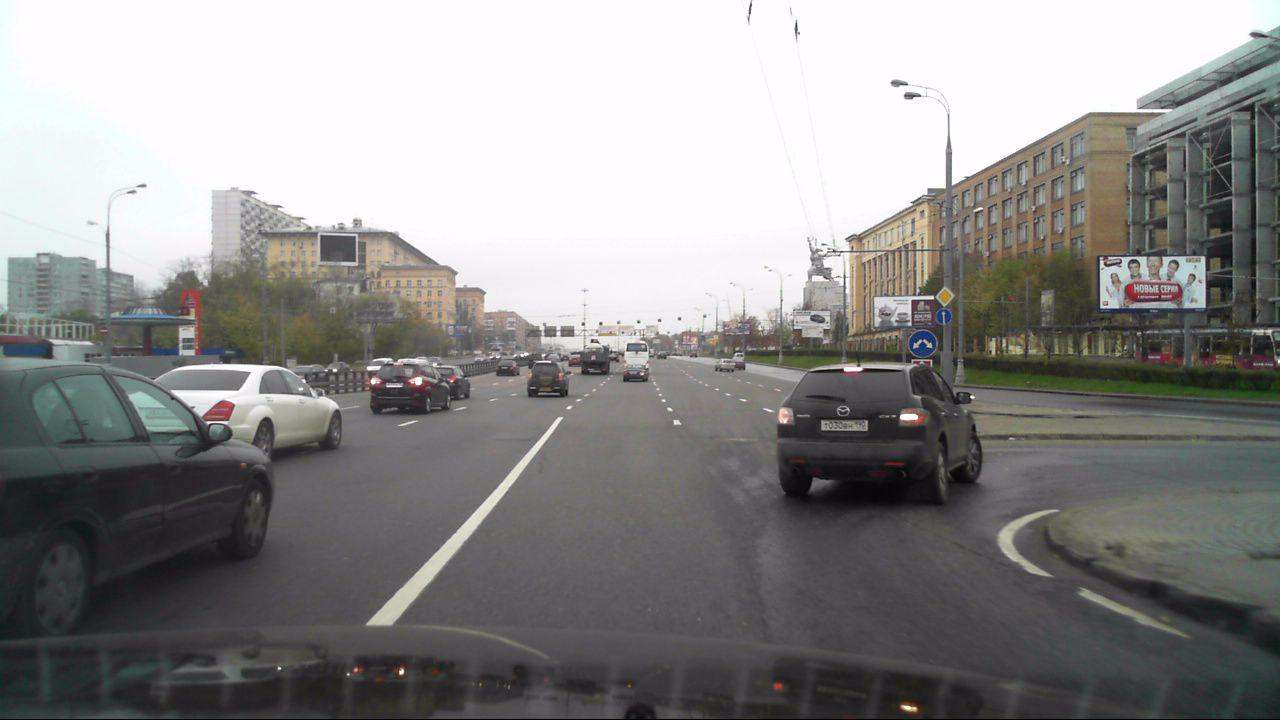2_1: (936, 287, 956, 307)
4_1_1: (936, 309, 953, 325)
4_2_3: (908, 329, 936, 357)
